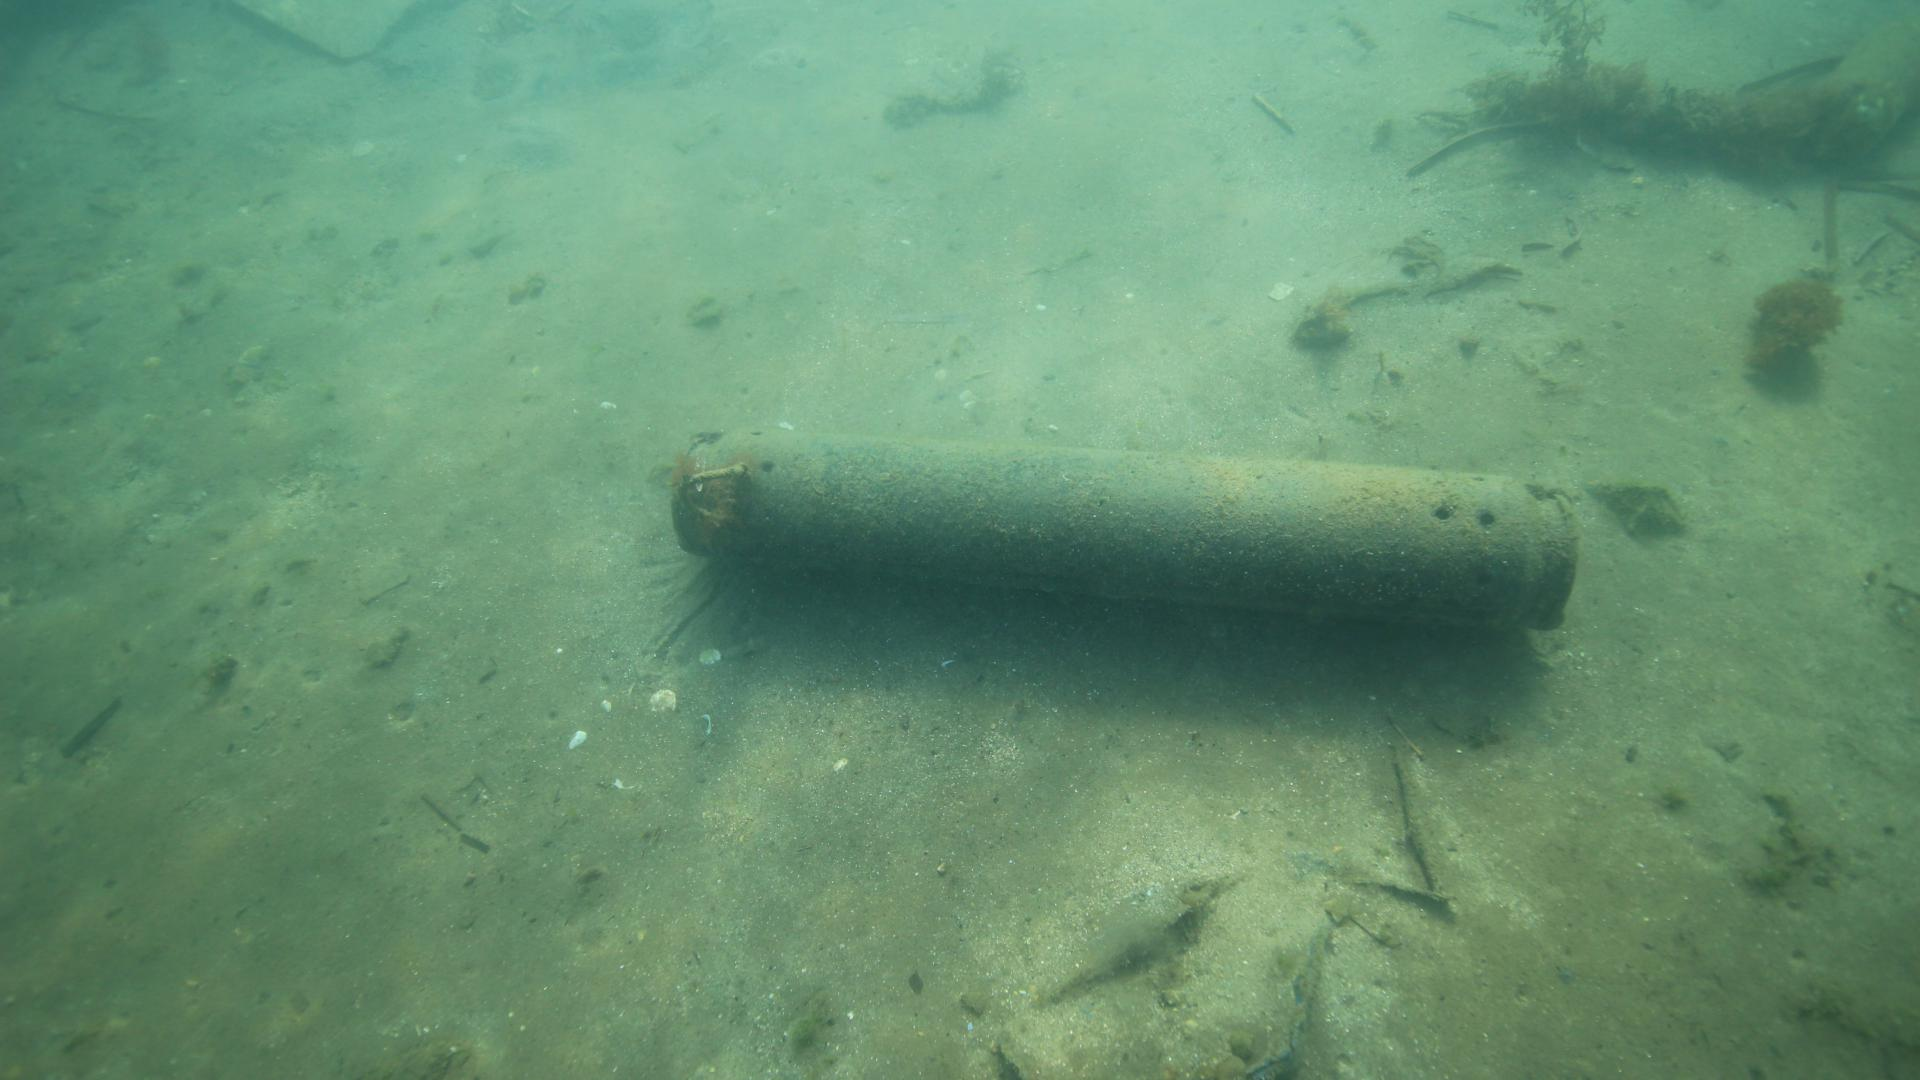eel fish trap: (673, 423, 1582, 636)
